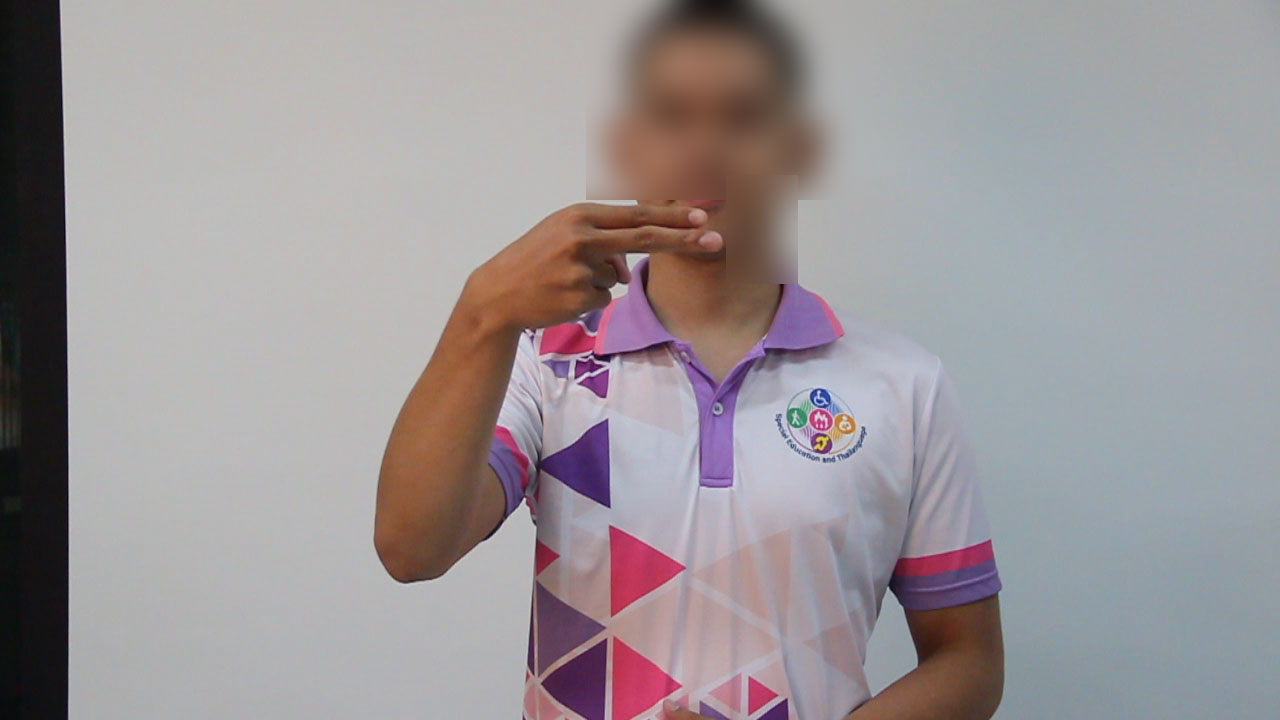hor: (457, 192, 738, 338)
